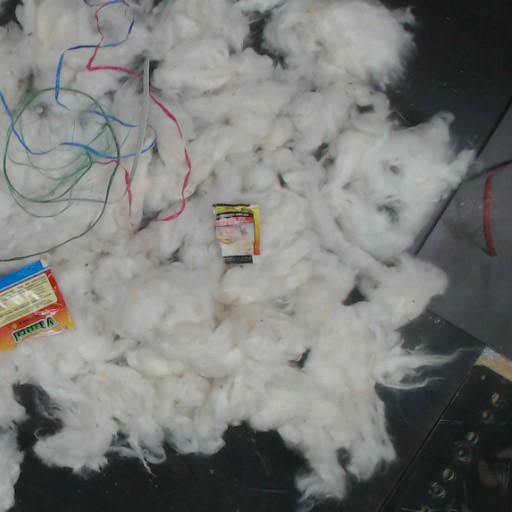conveyor belt: (314, 0, 511, 511), (14, 385, 301, 511), (249, 16, 263, 48)
cotton: (0, 0, 474, 511), (0, 0, 101, 109)
packet: (0, 260, 74, 351), (213, 204, 260, 265)
thread: (0, 0, 190, 264), (483, 161, 511, 256)
